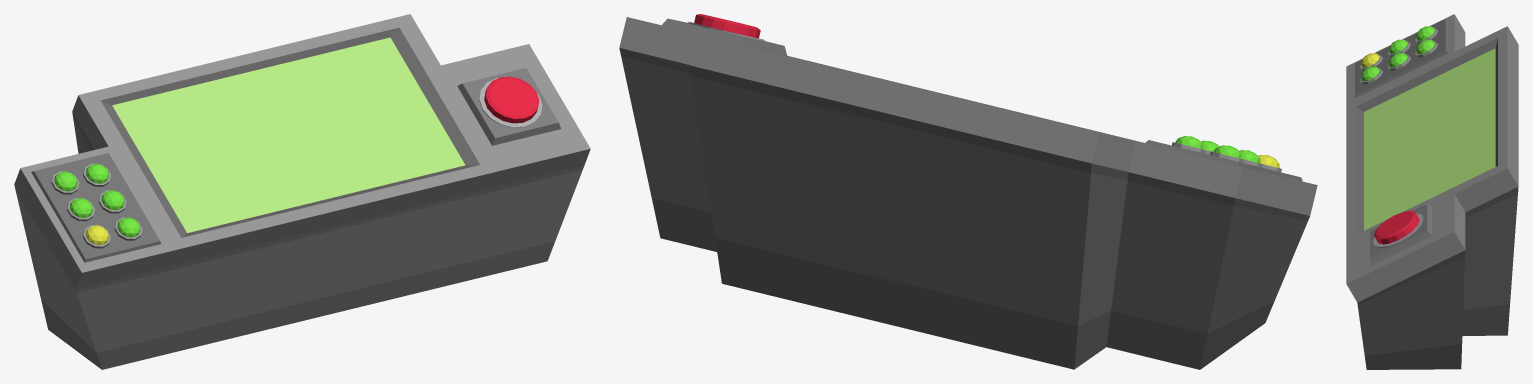
The model's file is console.fbx.
The picture shows the model from 3 angles, left to right: view 1: azimuth 30°, elevation 25°; view 2: azimuth 150°, elevation 25°; view 3: azimuth 270°, elevation 25°; orthographic projection. The views are drawn at different scales.
Parts seen in each view (by area): view 1: Console; view 2: Console; view 3: Console.
Part boxes in pixels (box(x1,y1,x2,y2)): Console: box(14, 14, 590, 369); Console: box(619, 14, 1317, 369); Console: box(1346, 14, 1518, 369).
Size of the model in its own units: 247 by 82.49 by 93.85.
